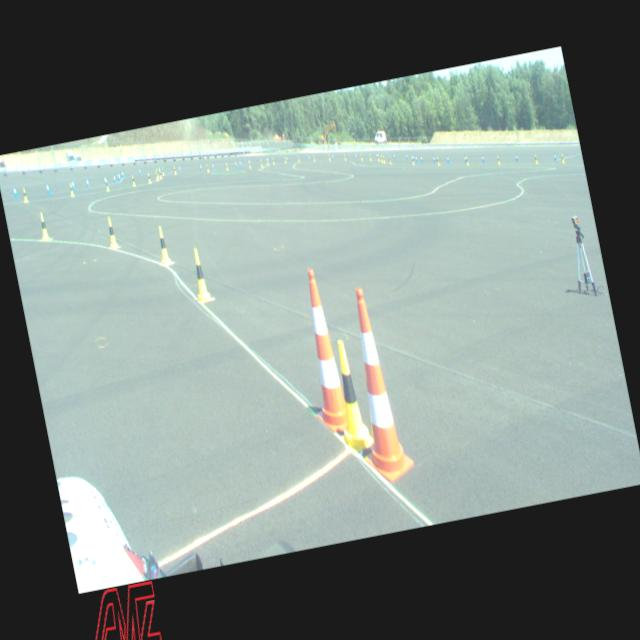blue_cone: (12, 185, 18, 198), (46, 182, 50, 195), (71, 179, 75, 190), (86, 177, 90, 188), (481, 154, 485, 163), (112, 174, 116, 182), (178, 165, 182, 173), (104, 176, 108, 184), (158, 166, 162, 174), (118, 172, 122, 180), (432, 156, 436, 163), (446, 154, 449, 162), (122, 170, 125, 178), (415, 154, 418, 162), (234, 160, 237, 168), (139, 168, 142, 175), (420, 155, 423, 162), (464, 155, 467, 162), (308, 154, 311, 160), (554, 152, 556, 160), (212, 162, 214, 170), (118, 172, 120, 180), (516, 154, 518, 162), (240, 160, 242, 168), (200, 164, 202, 171), (412, 154, 414, 161), (406, 154, 408, 160), (394, 153, 396, 159), (332, 154, 334, 160), (355, 154, 357, 159), (286, 156, 288, 161), (376, 153, 378, 158), (267, 158, 269, 163), (249, 160, 251, 164)
large_orange_cone: (334, 284, 416, 487), (290, 268, 350, 434)
yellow_cone: (324, 338, 374, 452), (190, 248, 212, 302), (156, 226, 172, 266), (105, 216, 119, 249), (37, 212, 50, 241), (22, 188, 28, 202), (69, 183, 74, 196), (131, 175, 136, 187), (105, 178, 110, 190), (148, 173, 152, 184), (496, 156, 501, 164), (534, 154, 538, 164), (155, 171, 159, 181), (158, 169, 162, 179), (436, 156, 440, 165), (174, 166, 178, 175), (466, 156, 470, 165), (388, 156, 392, 164), (266, 158, 270, 166), (248, 160, 252, 168), (560, 154, 564, 162), (382, 156, 386, 163), (272, 158, 276, 165), (312, 155, 316, 162), (156, 169, 159, 178), (381, 154, 384, 162), (376, 154, 379, 162), (260, 160, 263, 168), (207, 165, 210, 172), (284, 156, 287, 163), (369, 154, 372, 161), (361, 154, 364, 161), (162, 168, 164, 176), (226, 162, 228, 170), (328, 154, 330, 162), (412, 158, 414, 165), (344, 154, 346, 160), (298, 156, 300, 162)
